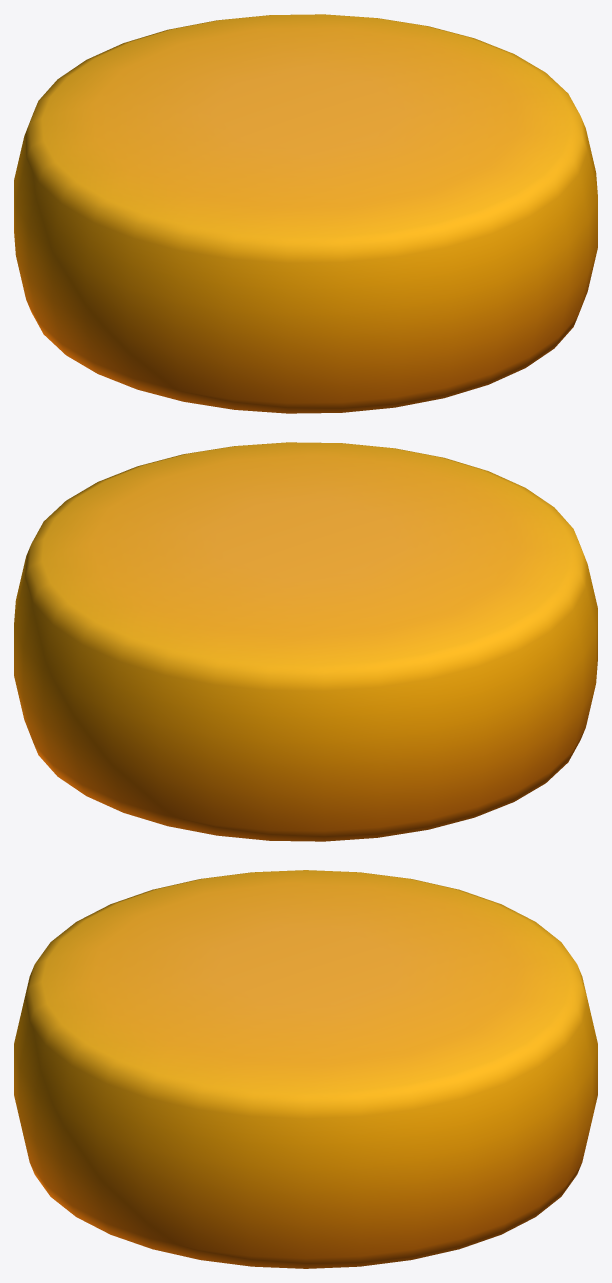
The model's file is cheese_003.fbx.
The picture shows the model from 3 angles, top to bottom: view 1: azimuth 30°, elevation 25°; view 2: azimuth 150°, elevation 25°; view 3: azimuth 270°, elevation 25°; orthographic projection.
Visible parts, largest first — view 1: cheese_003; view 2: cheese_003; view 3: cheese_003.
Boxes of the visible parts, x1=… form: cheese_003: x1=14, y1=14, x2=597, y2=413; cheese_003: x1=14, y1=442, x2=597, y2=841; cheese_003: x1=14, y1=870, x2=597, y2=1268.
Size of the model in its own units: 23.58 by 23.58 by 8.5.
